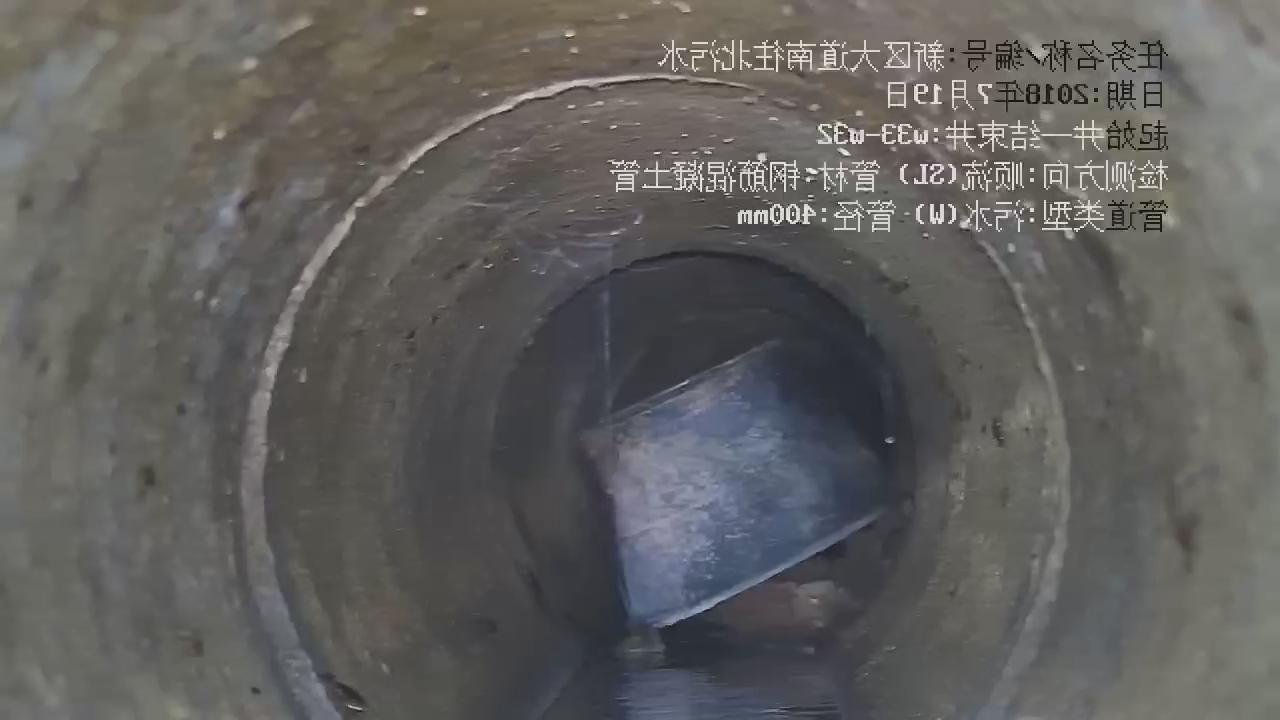ZAW: (593, 341, 889, 628)
